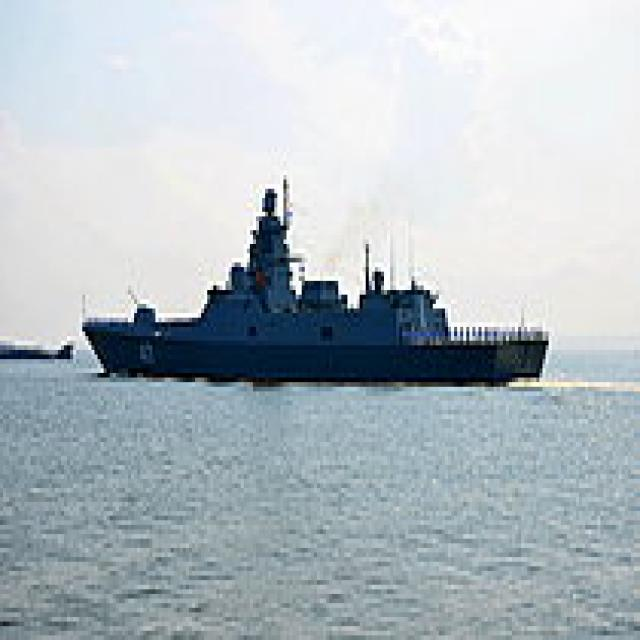Warship: (76, 170, 549, 387)
